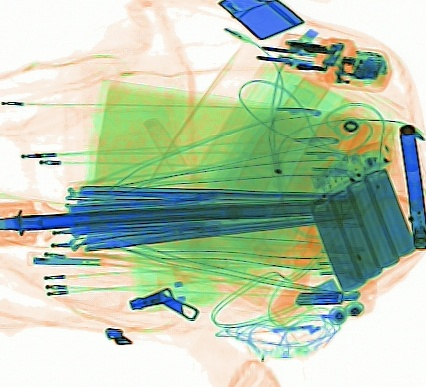lighter: (215, 1, 303, 39)
powerbank: (303, 139, 421, 292)
